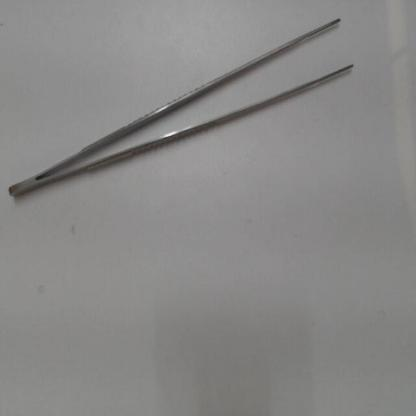DeBakey Dissector: (3, 3, 372, 213)
